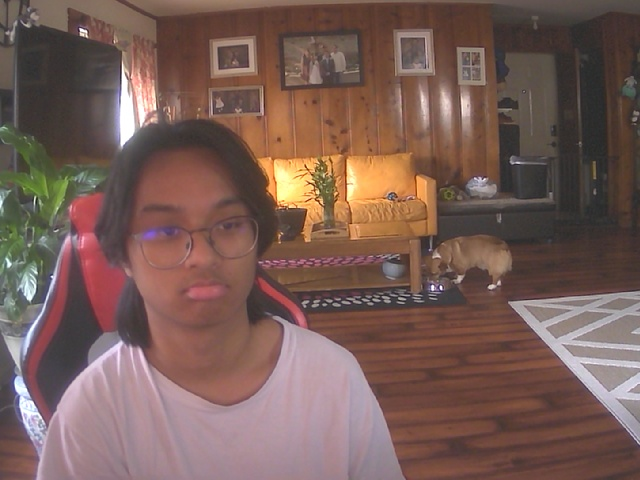sad: (119, 126, 270, 332)
